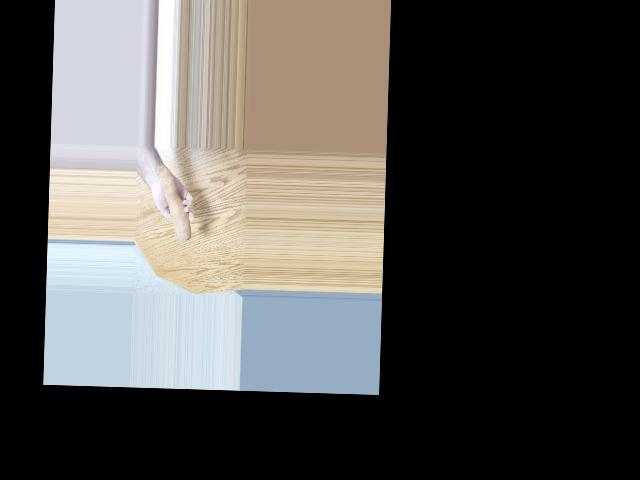sweet_potato: (156, 167, 194, 242)
